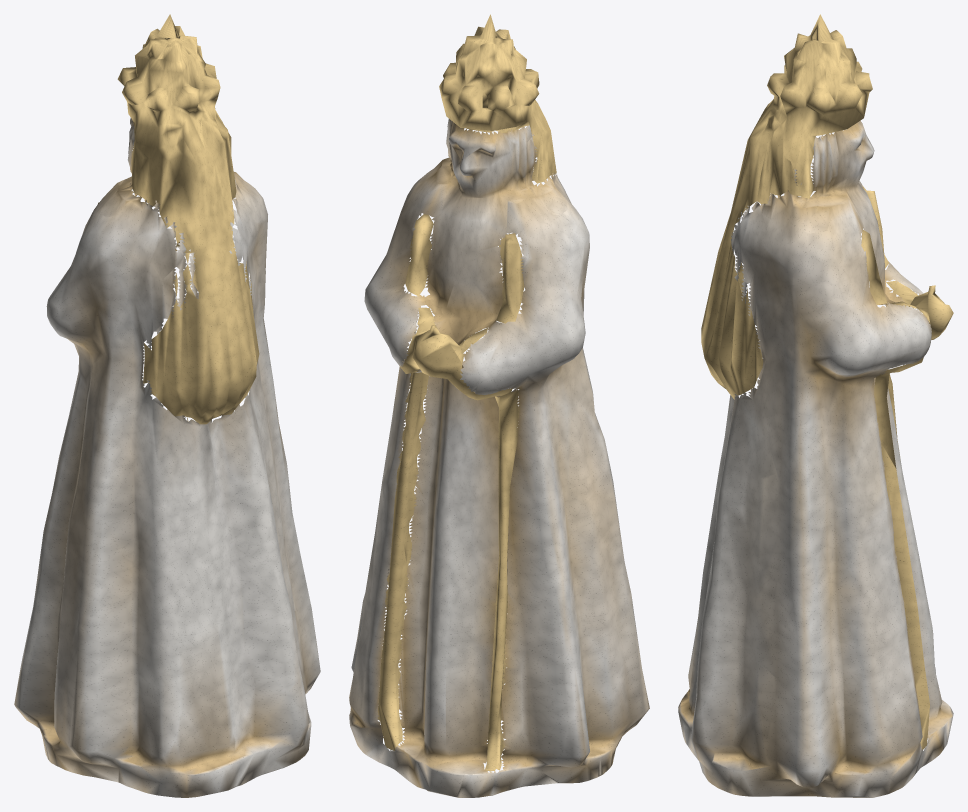
Rendered from queen-white.glb.
3 renders of one model, left to right at view 1: azimuth 30°, elevation 25°; view 2: azimuth 150°, elevation 25°; view 3: azimuth 270°, elevation 25°, orthographic.
Visible parts, largest first — view 1: Argent Reliquary – White Queen; view 2: Argent Reliquary – White Queen; view 3: Argent Reliquary – White Queen.
Boxes of the visible parts, x1,y1,x2,y2 form: Argent Reliquary – White Queen: (14, 14, 320, 797); Argent Reliquary – White Queen: (349, 14, 649, 797); Argent Reliquary – White Queen: (678, 14, 953, 797).
Size of the model in its own units: 0.5839 by 1.53 by 0.5196.
Materials: 2 (2 with a texture image).
